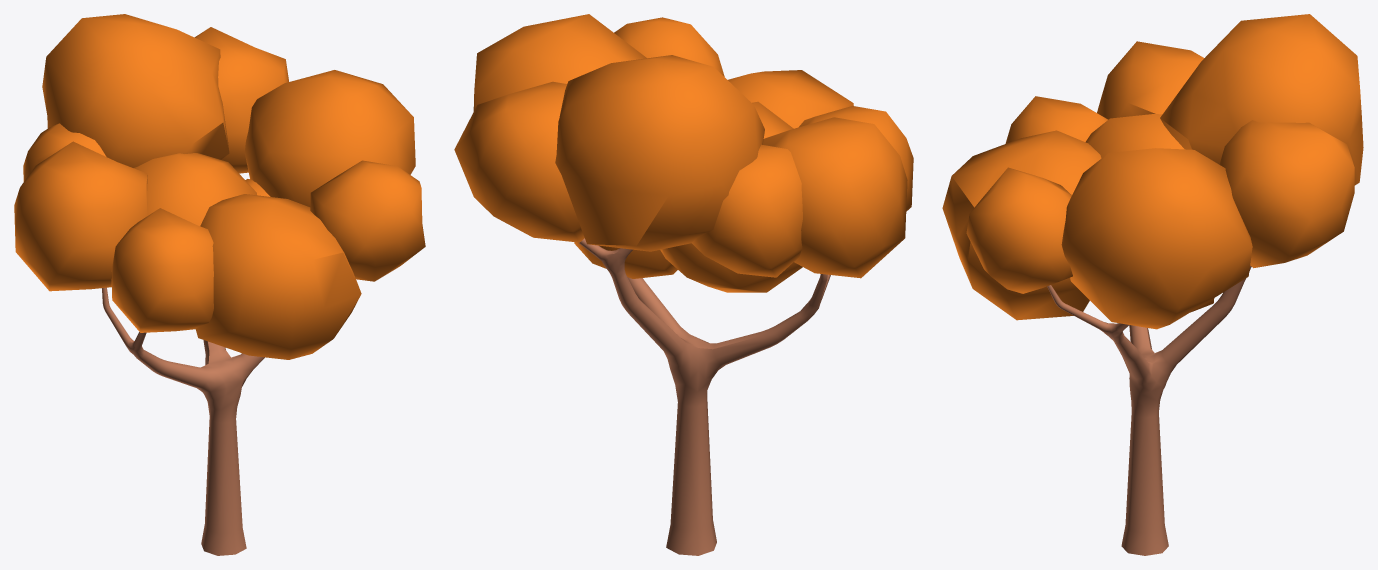
File: Tree03.fbx
3 renders of one model, left to right at view 1: azimuth 30°, elevation 25°; view 2: azimuth 150°, elevation 25°; view 3: azimuth 270°, elevation 25°, orthographic. The views are drawn at different scales.
Parts seen in each view (by area): view 1: Icosphere.004, Plane.006; view 2: Icosphere.004, Plane.006; view 3: Icosphere.004, Plane.006.
Part boxes in pixels (<box>): Icosphere.004: <box>14,14,425,359</box>; Plane.006: <box>102,287,264,555</box>; Icosphere.004: <box>454,14,913,292</box>; Plane.006: <box>578,238,830,555</box>; Icosphere.004: <box>942,14,1363,329</box>; Plane.006: <box>1047,265,1251,555</box>.
Size of the model in its own units: 352 by 442 by 335.
